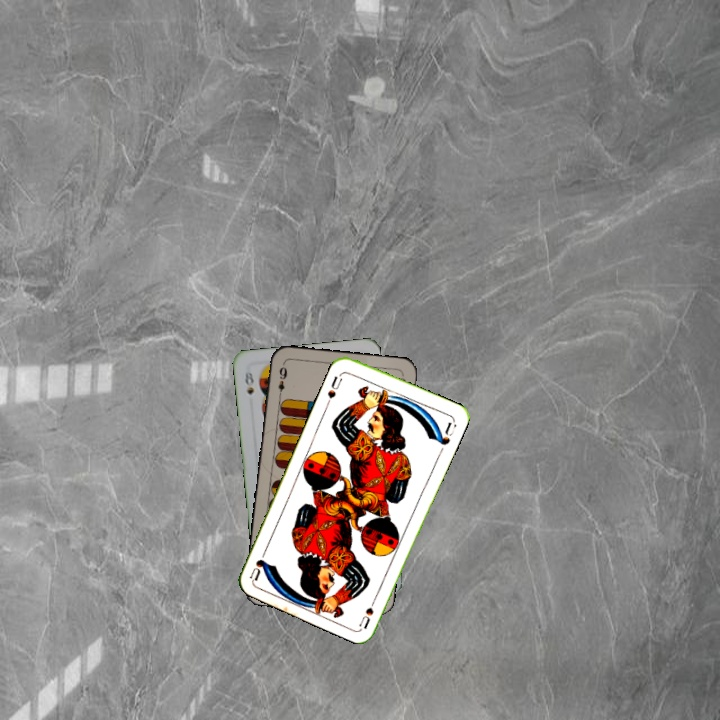E9: (274, 360, 289, 401)
S8: (241, 368, 256, 397)
SU: (356, 590, 380, 630), (323, 369, 346, 408)
